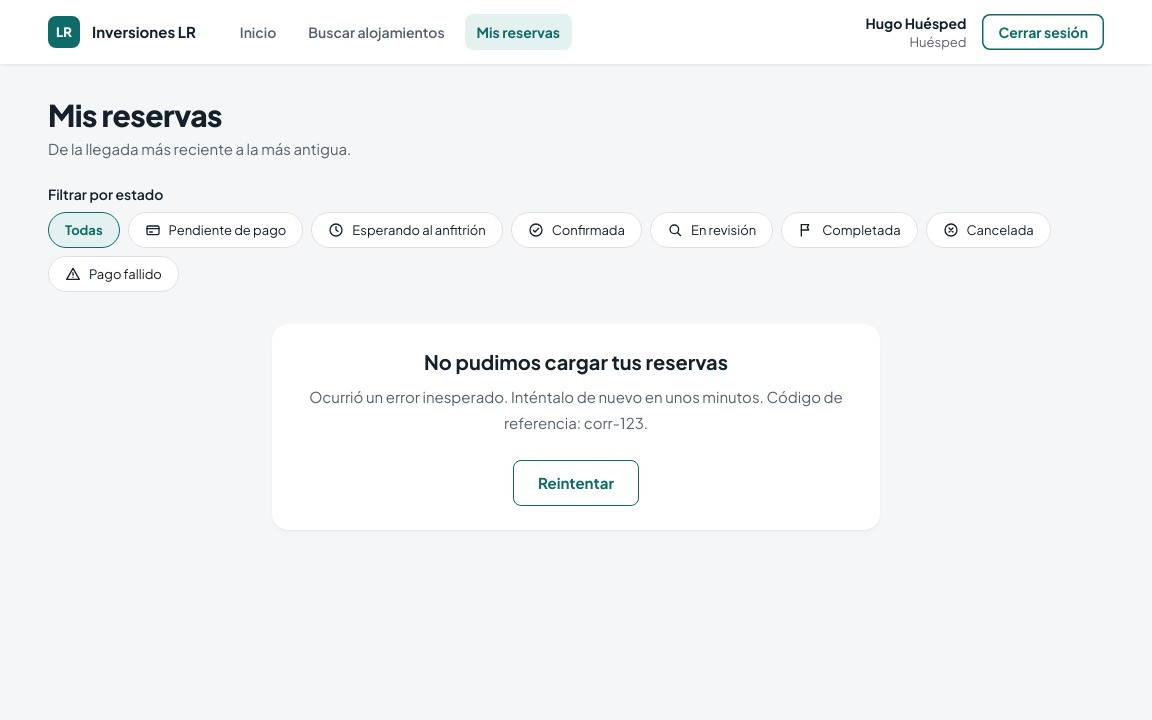
Test case: mis reservas › estados de la pantalla › error con reintento
Expected: the heading "No pudimos cargar tus reservas" is shown, [424,349,728,374]
Expected: the message shows "corr-123", [309,387,843,432]
Click the button "Reintentar" at (576, 483), box [513,460,639,506]
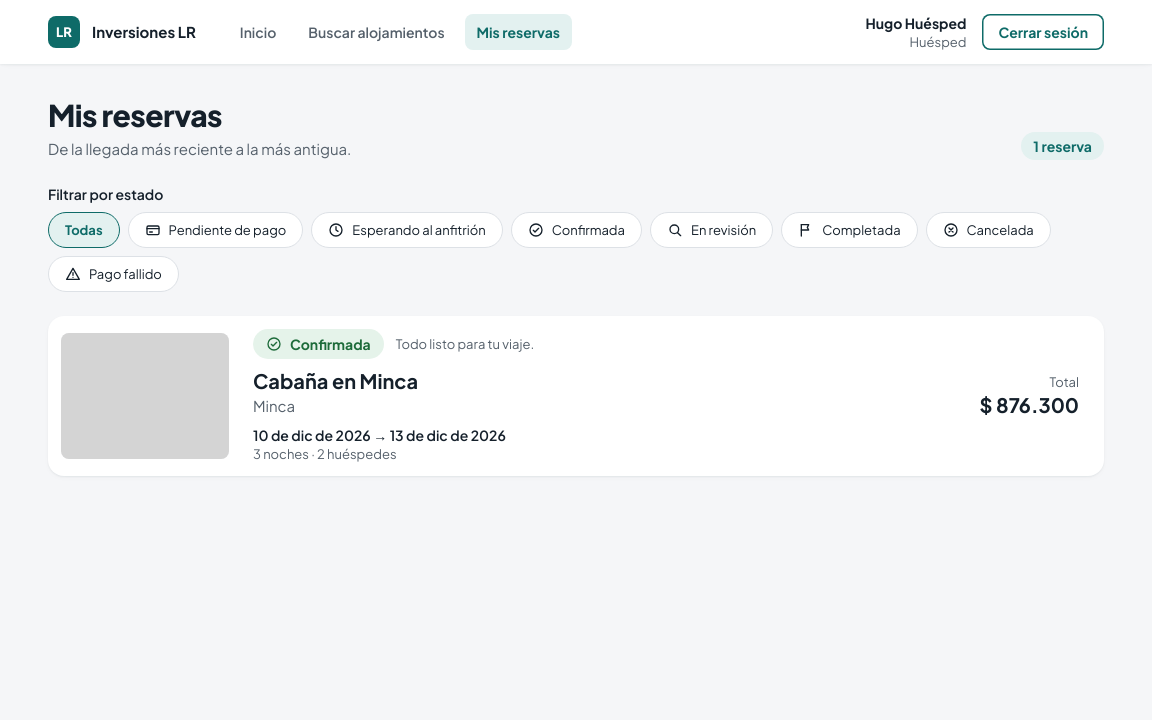
Now the link "Cabaña en Minca" is shown, box [253,368,418,393]
Now the message is gone
